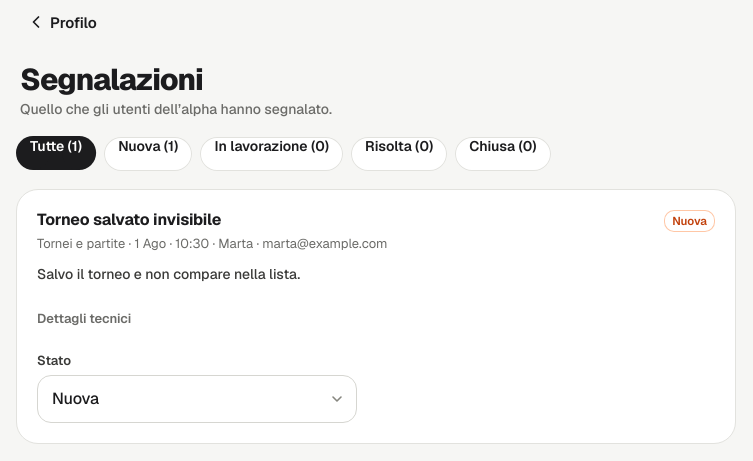
Segnalazioni — schermata › un filtro senza righe lo dice
The width and height of the screenshot is (753, 461).
Click the button "Chiusa (0)": click(503, 154) [455, 137, 551, 171]
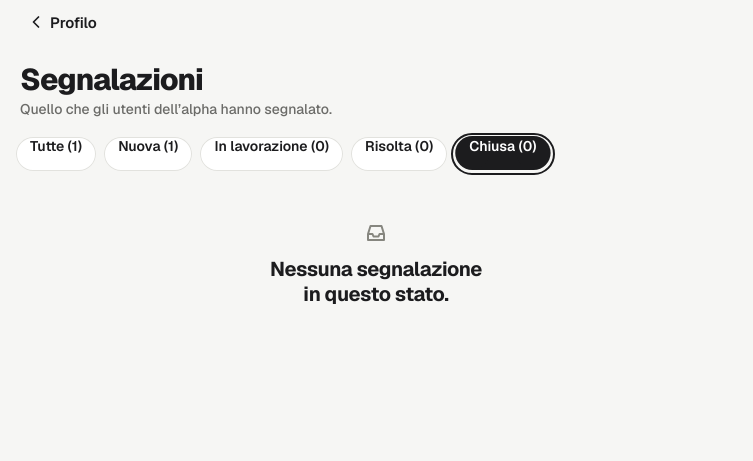
Check: the heading "Nessuna segnalazione in questo stato." is shown, box [270, 256, 482, 307]
